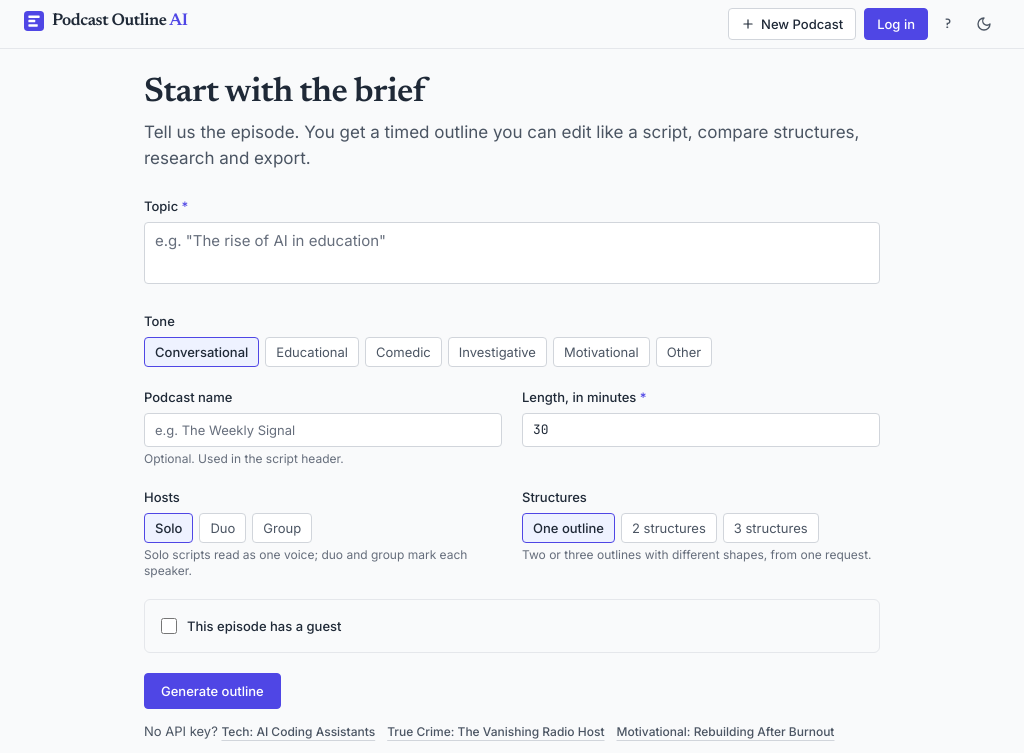
Test: + New Podcast: reset › Test 1: after generating, asks first (the outline is unsaved), then leaves a blank form with no trace of Podcast A
Type "Future of AI" into the text box labelled "Topic *". click: [512, 253]
box: [144,222,880,284]
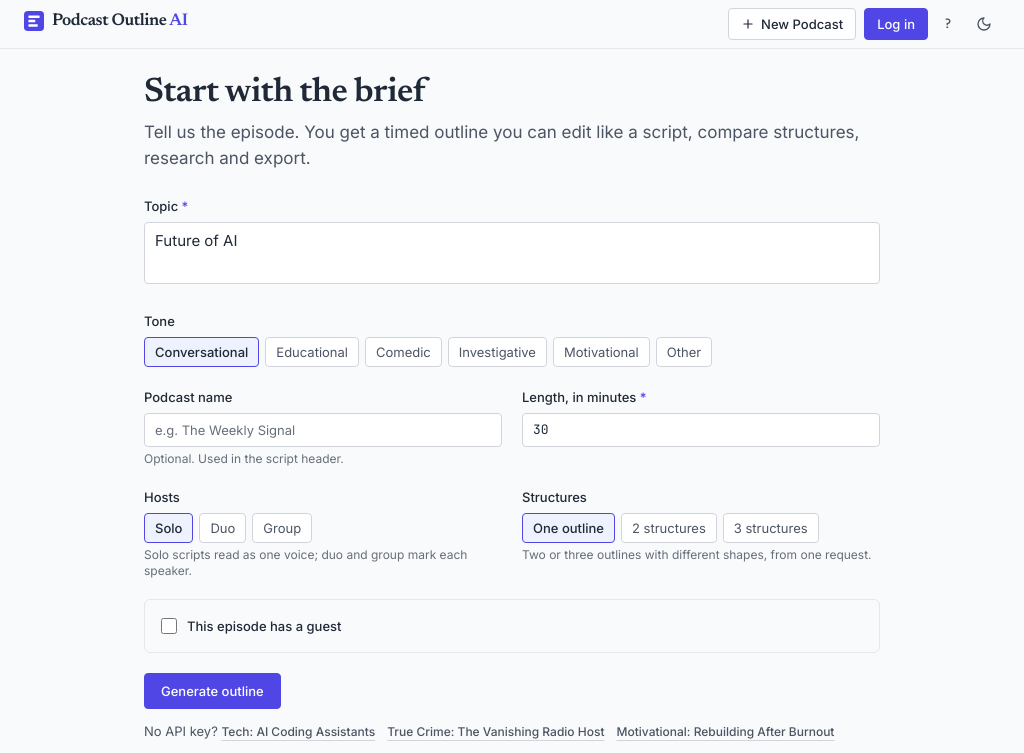
Click the checkbox labelled "This episode has a guest". click: [169, 626]
box: [161,618,177,634]
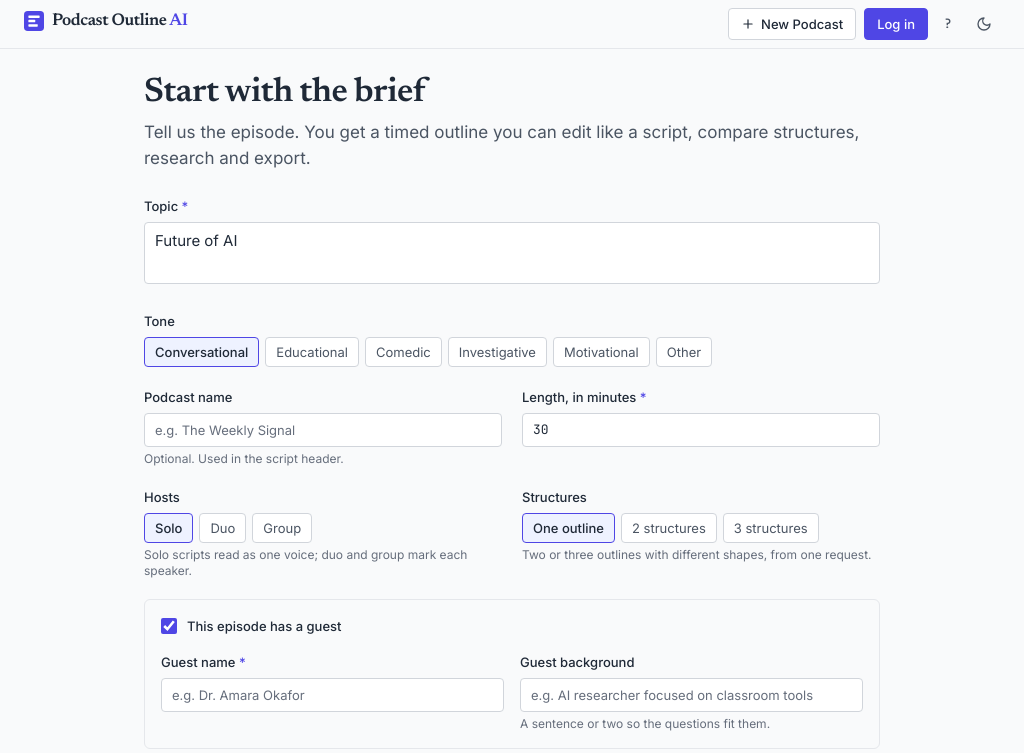
Type "John" into the field labelled "Guest name *". click: [332, 695]
box: [161,678,504,712]
(page scrolled)
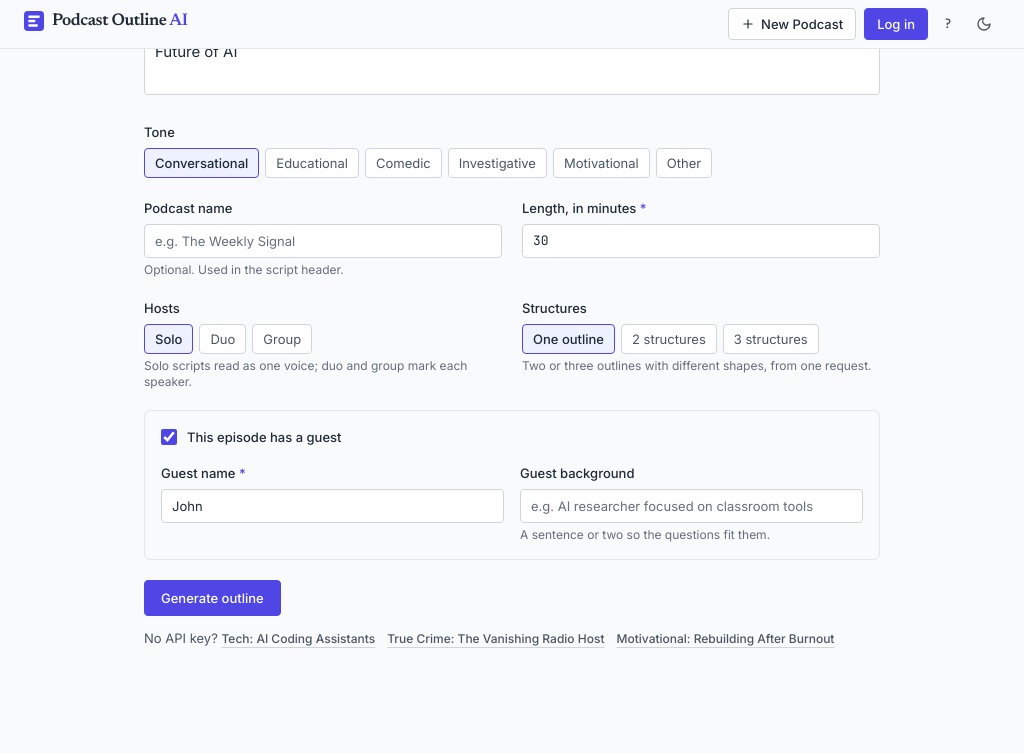
Click the button "Generate outline". click: [212, 598]
box: [144,580,281,616]
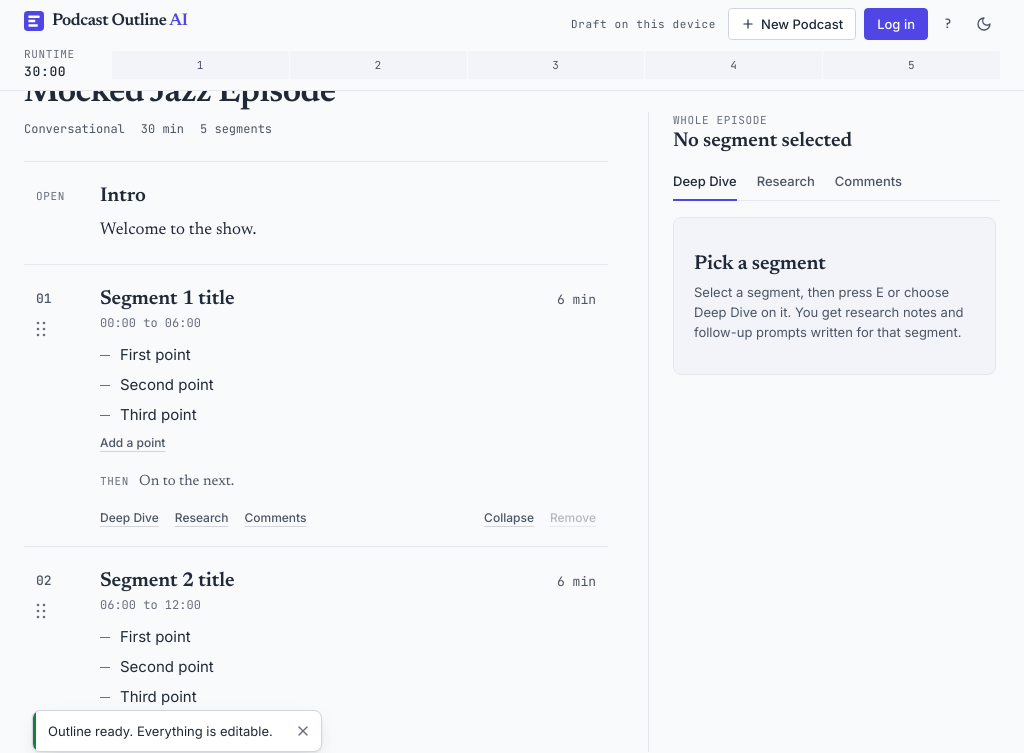
Click the button "New Podcast". click: [792, 24]
box: [728,8,856,40]
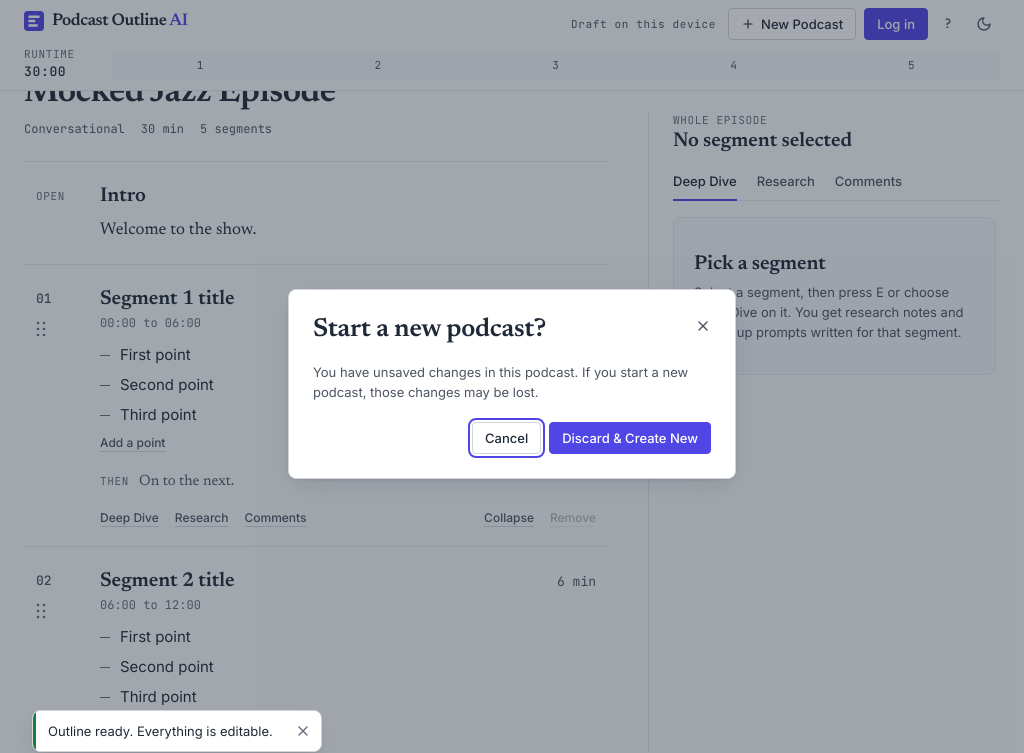
Expected: the text "You have unsaved changes in this podcast. If you start a new podcast, those changes may be lost." is shown, [313,364,688,400]
Click the button "Discard & Create New". click: [630, 438]
box: [549,422,711,454]
(page scrolled)
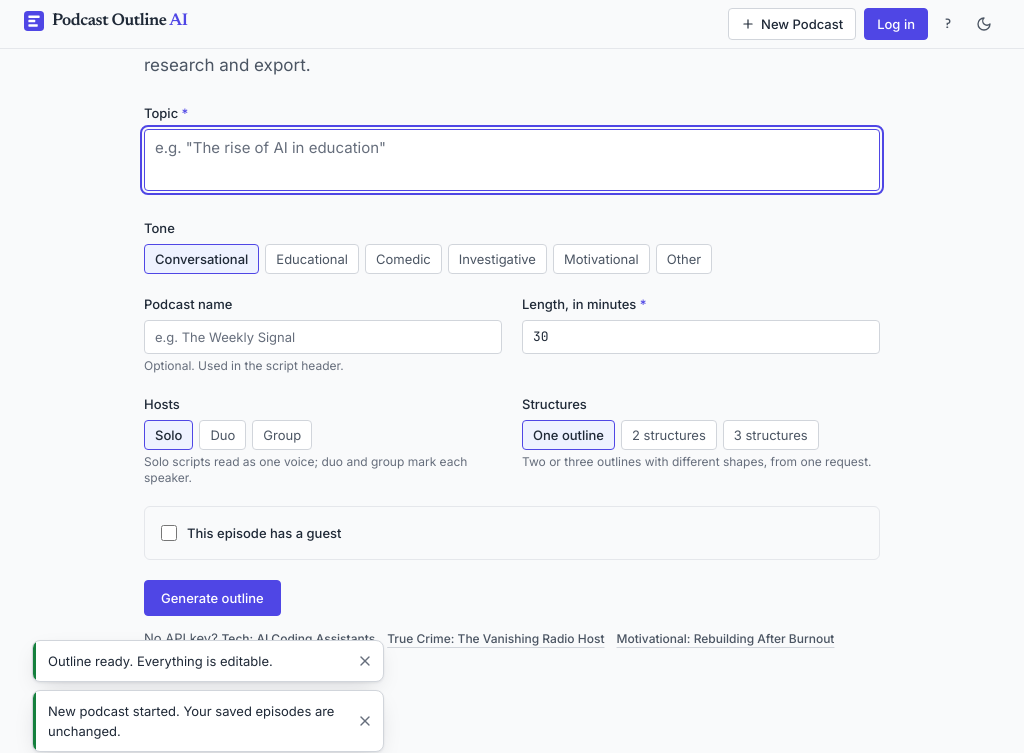
Expected: the heading "Start a new podcast?" is gone
Expected: the text box labelled "Topic *" is empty, [144,129,880,191]
Expected: the checkbox labelled "This episode has a guest" is not checked, [161,525,177,541]
